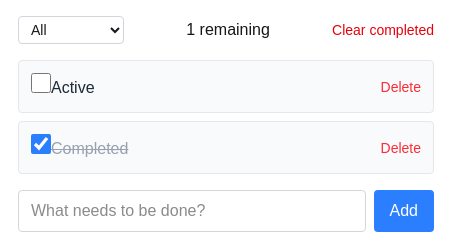
TodoList › should display completed todos and hide the others when filter is set to "completed"
Step 1. Select "Completed" in the dropdown → (71, 30), box top-left (18, 16), bottom-right (124, 44)
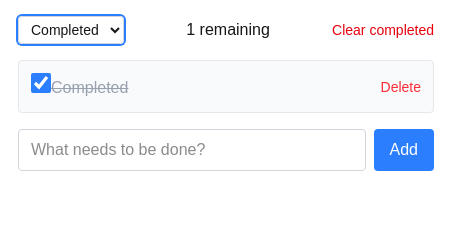
Check: the checkbox labelled "Completed" is shown, box top-left (31, 73), bottom-right (51, 93)
Check: the text "Active" is gone
